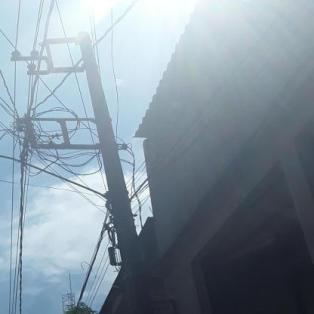Poste: (69, 28, 207, 314)
